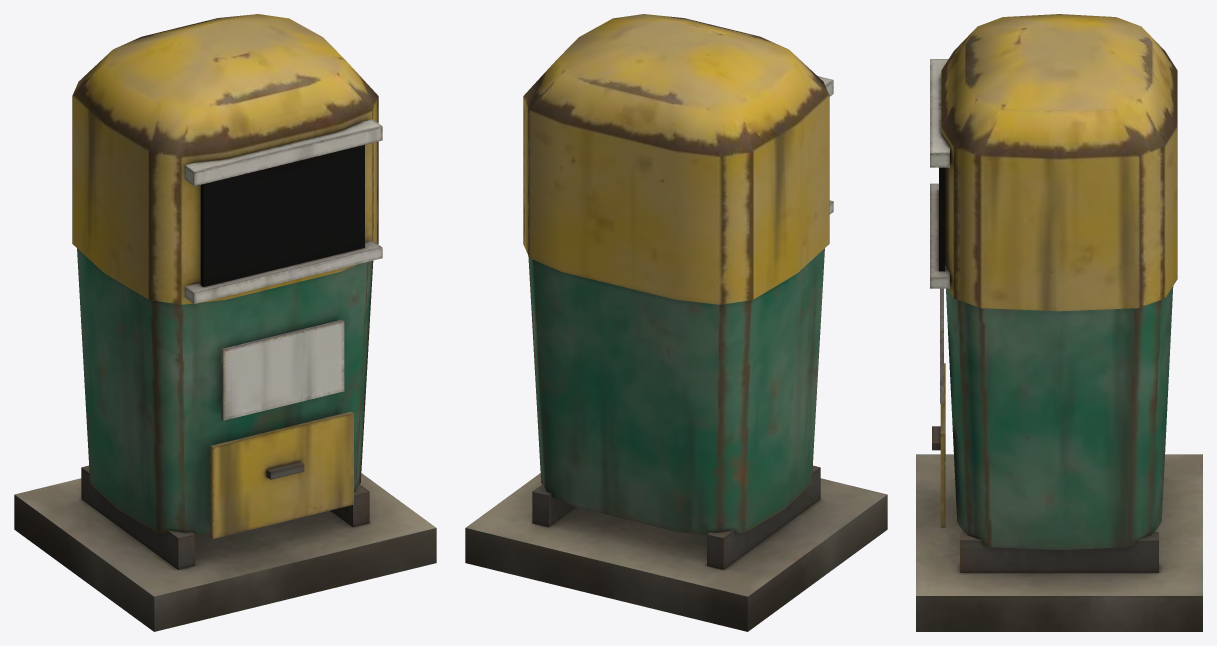
File: dustbin.glb
The picture shows the model from 3 angles, left to right: view 1: azimuth 30°, elevation 25°; view 2: azimuth 150°, elevation 25°; view 3: azimuth 270°, elevation 25°; orthographic projection. The views are drawn at different scales.
Visible parts, largest first — view 1: body; view 2: body; view 3: body.
Part boxes in pixels (left/top/right/bottom): body: left=14, top=14, right=436, bottom=631; body: left=465, top=14, right=887, bottom=631; body: left=916, top=14, right=1202, bottom=631.
Size of the model in its own units: 0.84 by 1.44 by 0.72.
Materials: 1 (1 with a texture image).
